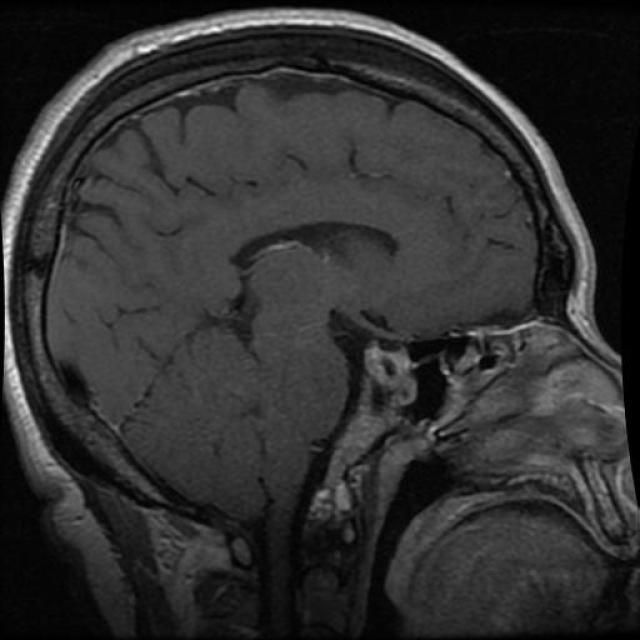pituitary: (348, 320, 428, 403)
